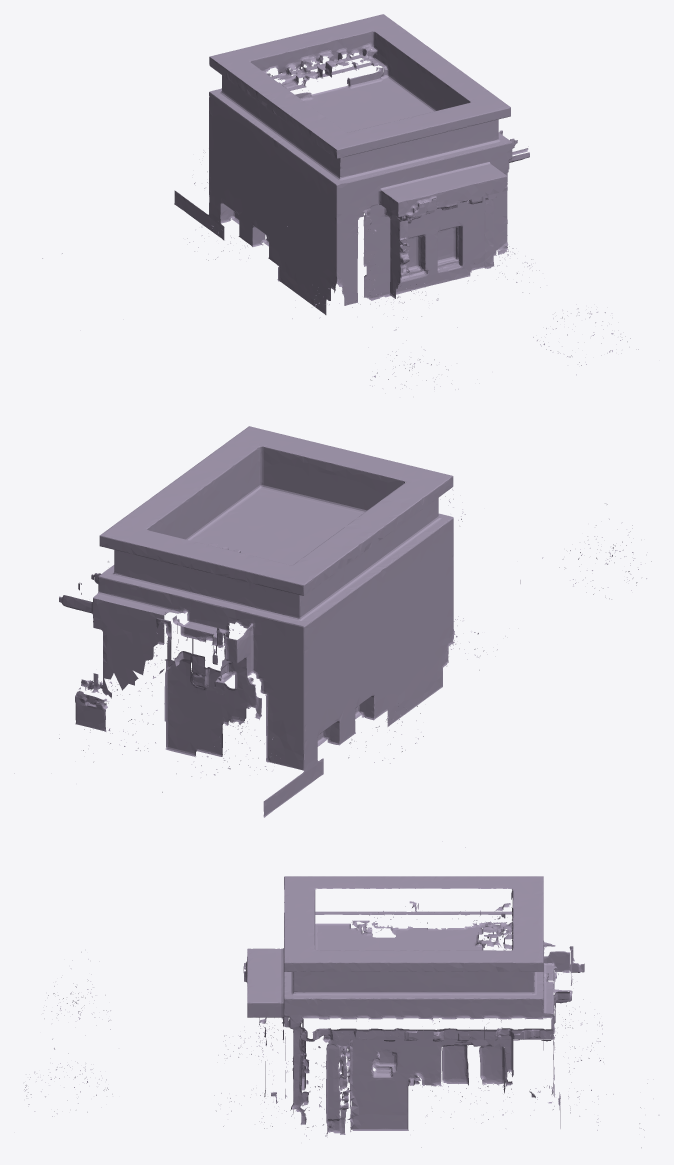
Rendered from block-02-building-6.glb.
3 renders of one model, top to bottom at view 1: azimuth 30°, elevation 25°; view 2: azimuth 150°, elevation 25°; view 3: azimuth 270°, elevation 25°, orthographic. The views are drawn at different scales.
Visible parts, largest first — view 1: building_6; view 2: building_6; view 3: building_6.
Boxes of the visible parts, x1,y1,x2,y2 form: building_6: (42, 14, 638, 389); building_6: (14, 426, 651, 847); building_6: (24, 876, 659, 1147).
Size of the model in its own units: 0.7894 by 0.3287 by 1.08.
